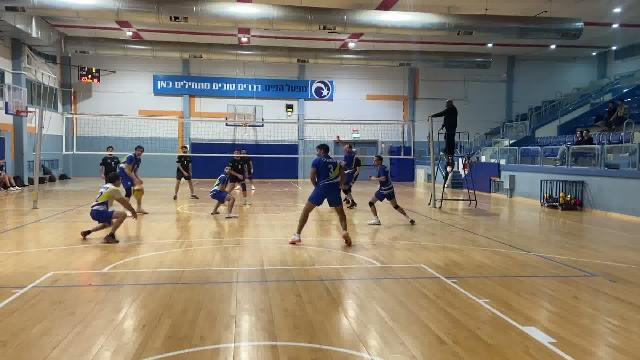ball: (129, 182, 145, 201)
